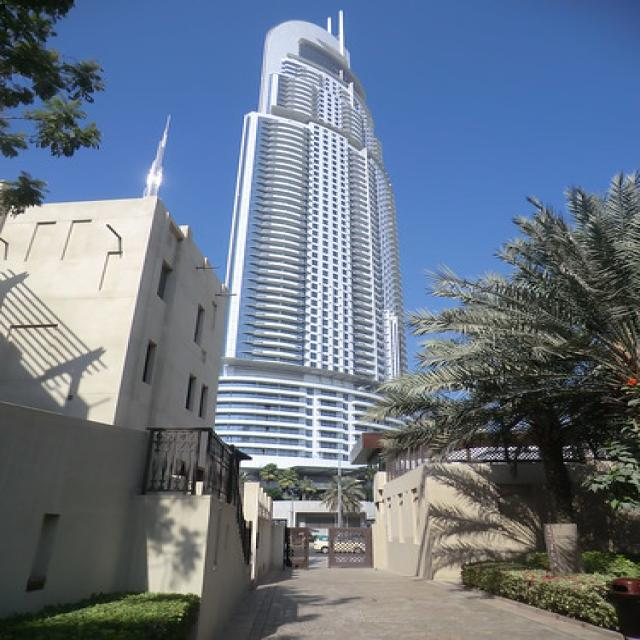building: (208, 8, 420, 476)
